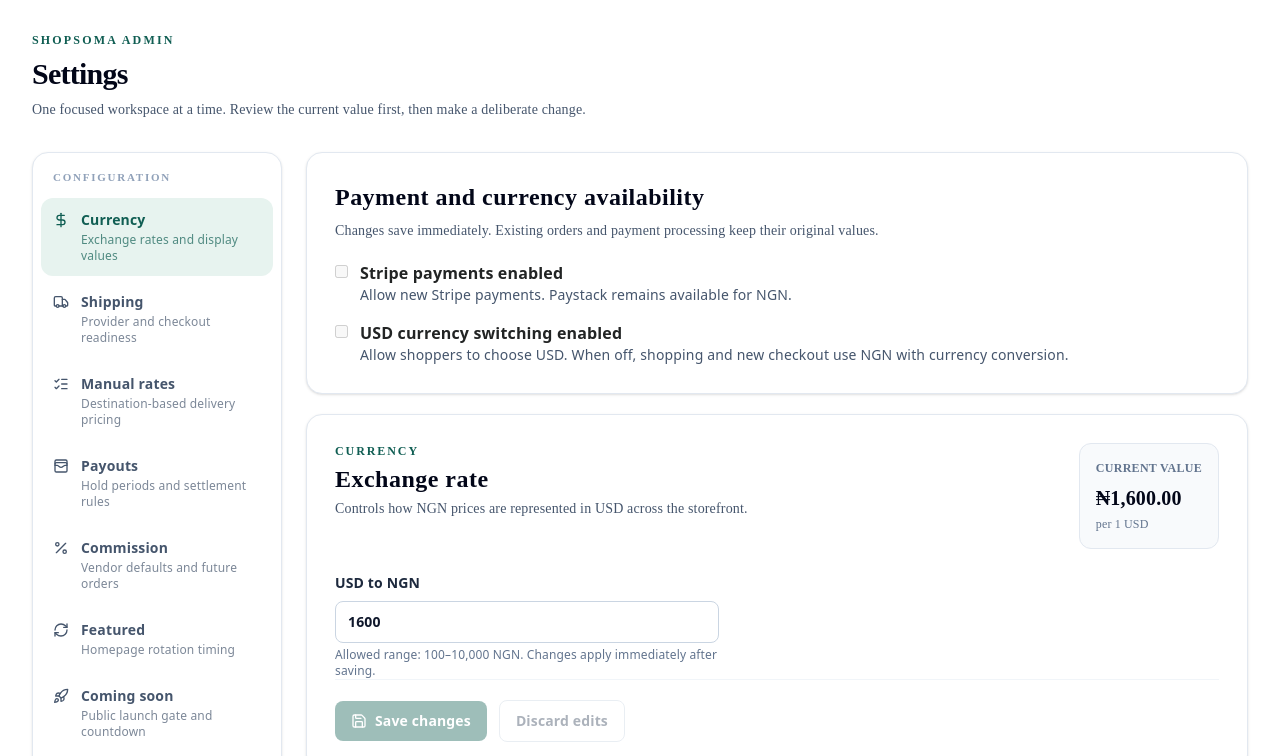
Test: hydrates edits and rejects crossed ranges without submitting; displays save failures
The image size is (1280, 756).
Click the button "Manual rates Destination-based delivery pricing" at (157, 400), box [41, 362, 273, 440]
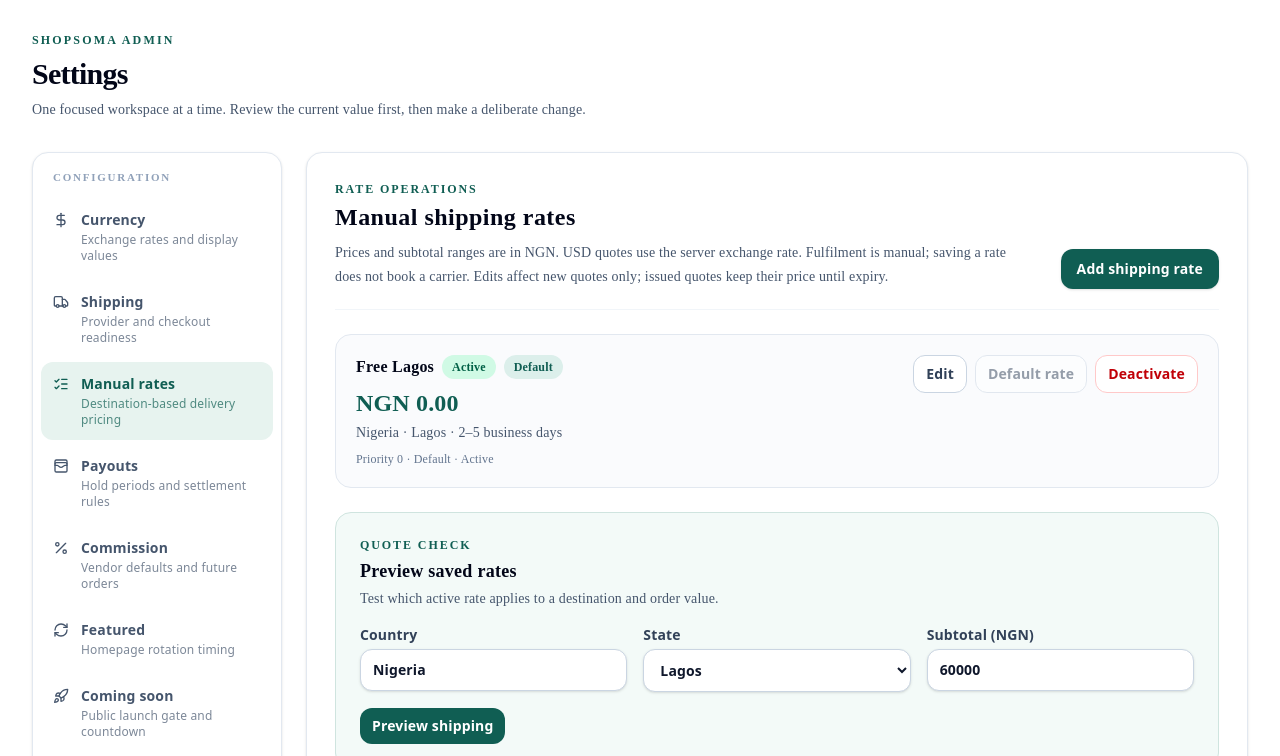
Click the button named "Edit Free Lagos" at (940, 374), box [913, 355, 967, 393]
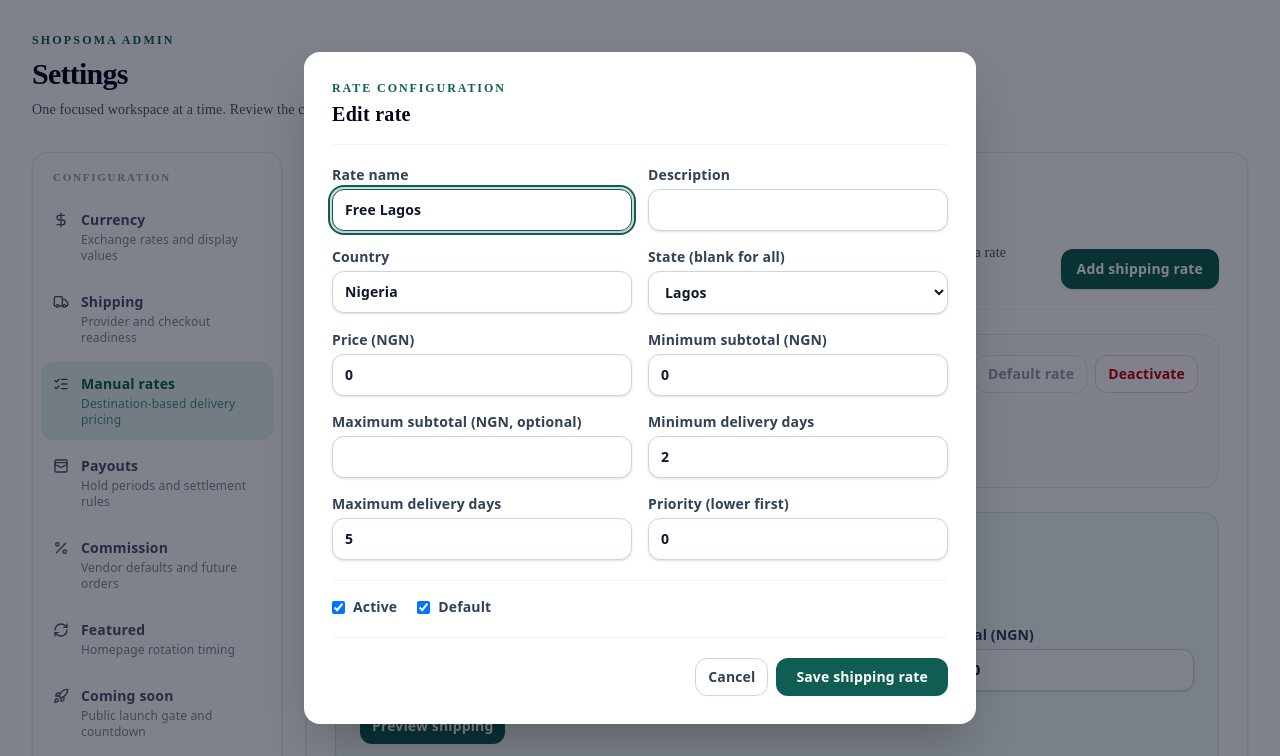
Expected: the number field labelled "Price (NGN)" holds "0", [332, 354, 632, 396]
Replace the text in the number field labelled "Minimum delivery days" with "9" at (798, 457), box [648, 436, 948, 478]
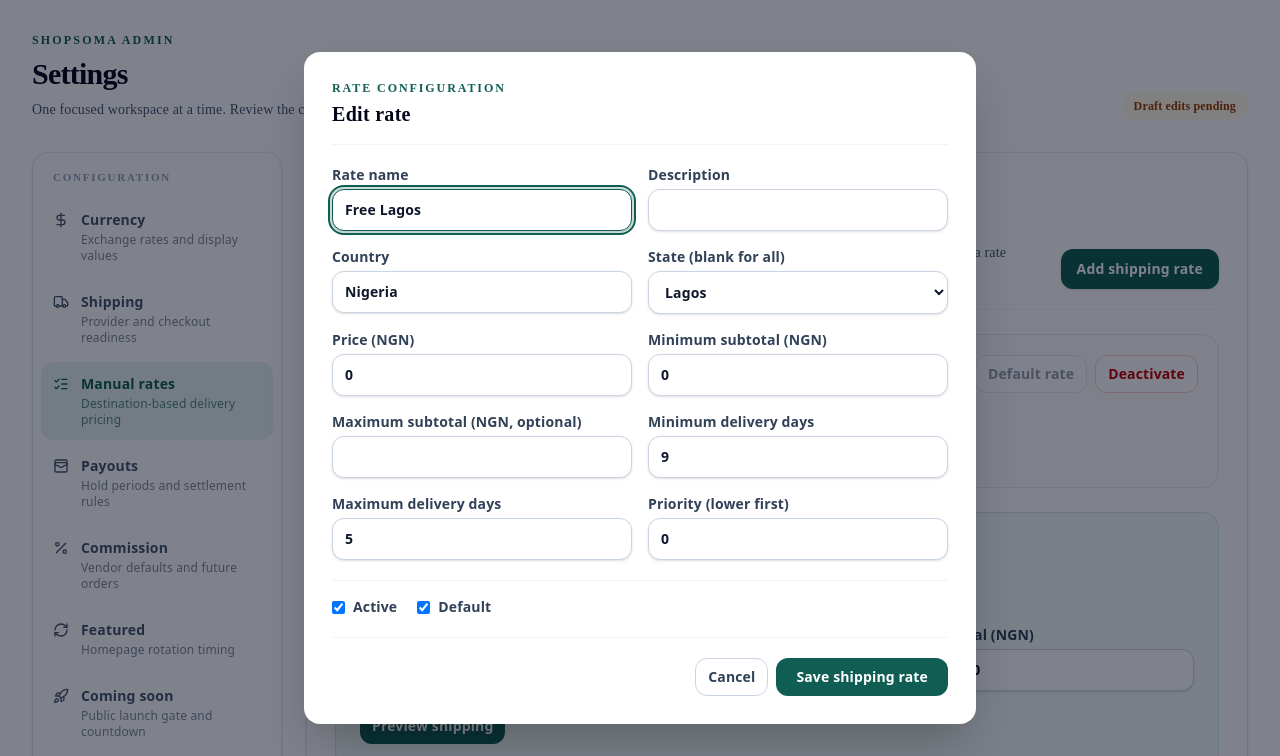
Click the button "Save shipping rate" at (862, 677), box [776, 658, 948, 696]
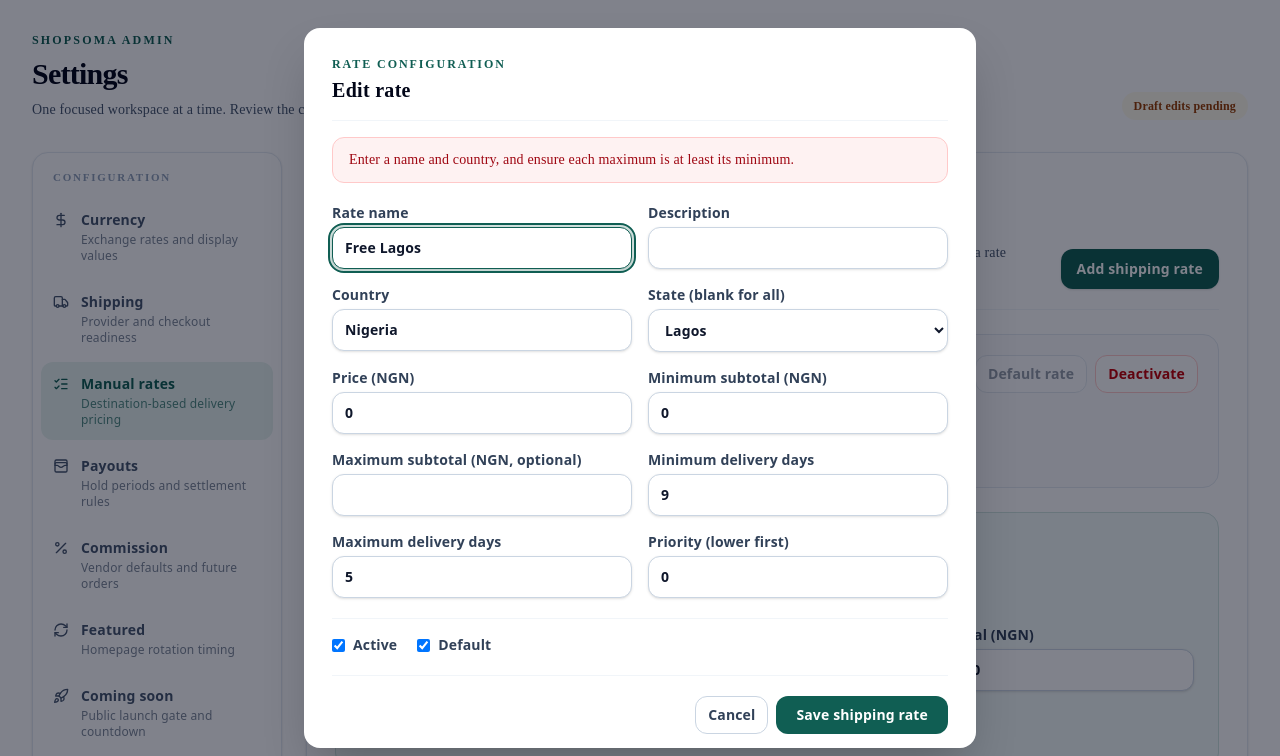
Expected: the message "Enter a name and country, and ensure each maximum is at least its minimum." is shown, [332, 137, 948, 183]
Replace the text in the number field labelled "Minimum delivery days" with "3" at (798, 495), box [648, 474, 948, 516]
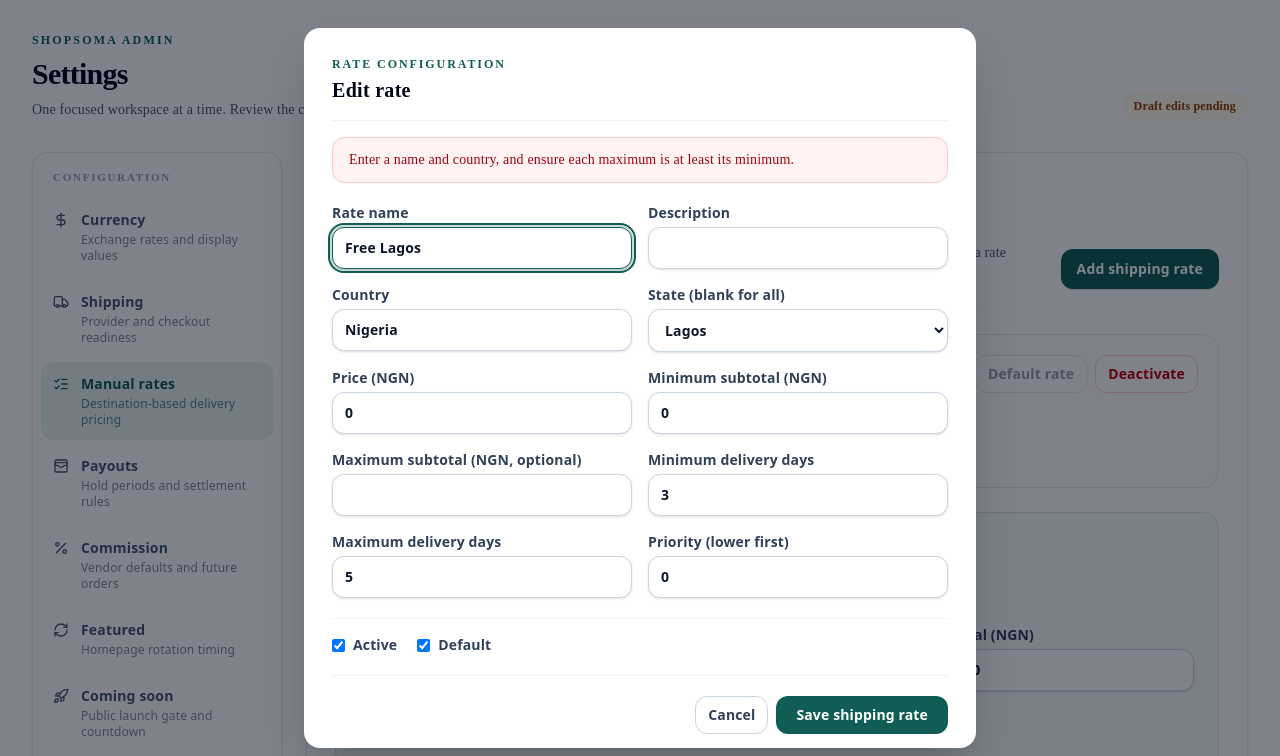
Click the button "Save shipping rate" at (862, 715), box [776, 696, 948, 734]
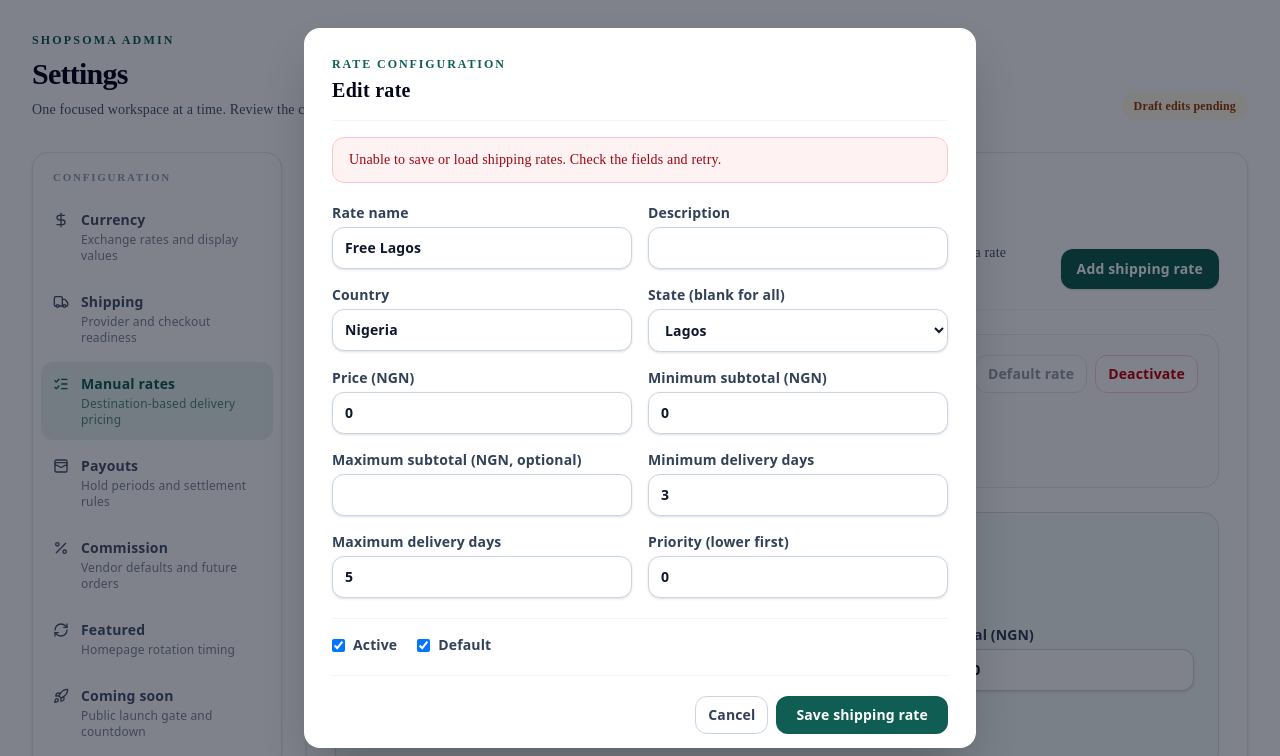
Expected: the field labelled "Rate name" holds "Free Lagos", [332, 227, 632, 269]
Expected: the message shows "Unable to save or load", [349, 152, 721, 167]
